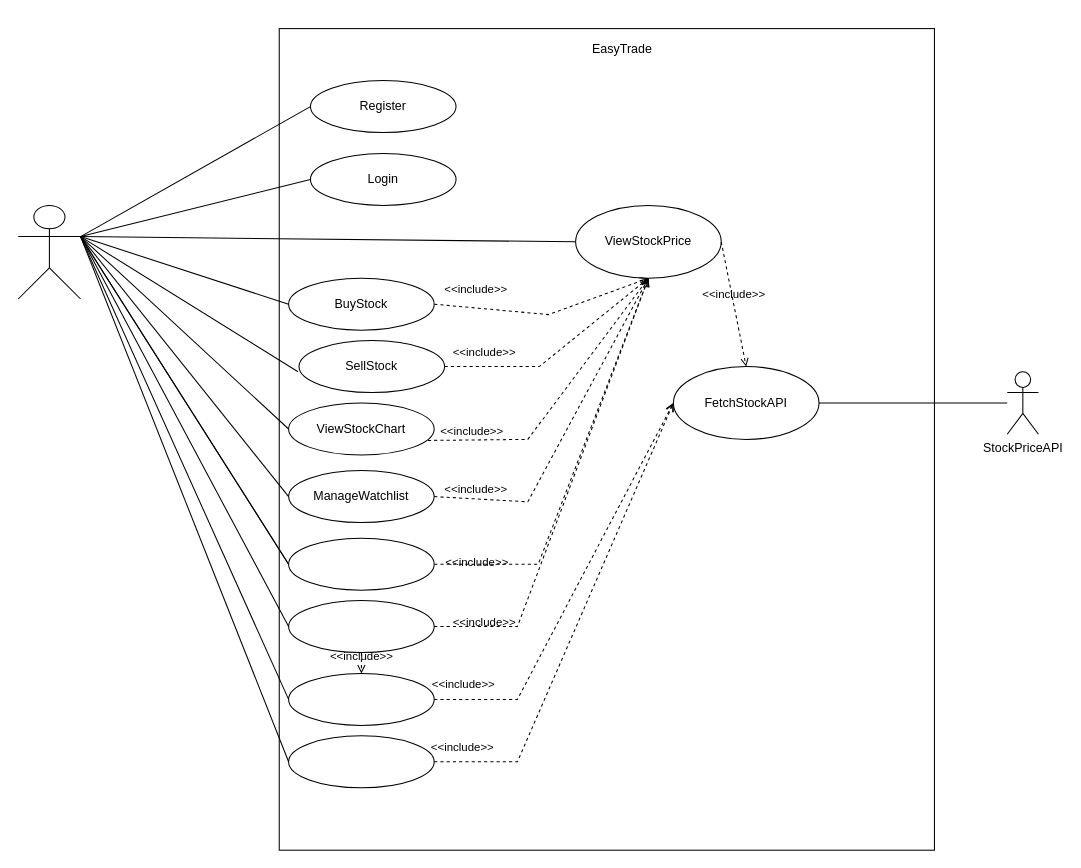
Image size: 1081x868. Some labels were removed from this diagram. The shapes that lost their labels are listed below. From the top down, each one's centre as x and y in pixels, then its label:
point 49,251: User
point 361,563: ViewTradeHistory
point 361,626: AnalyzeReturn
point 361,698: ViewPortfolio
point 361,761: ViewStockRanking
